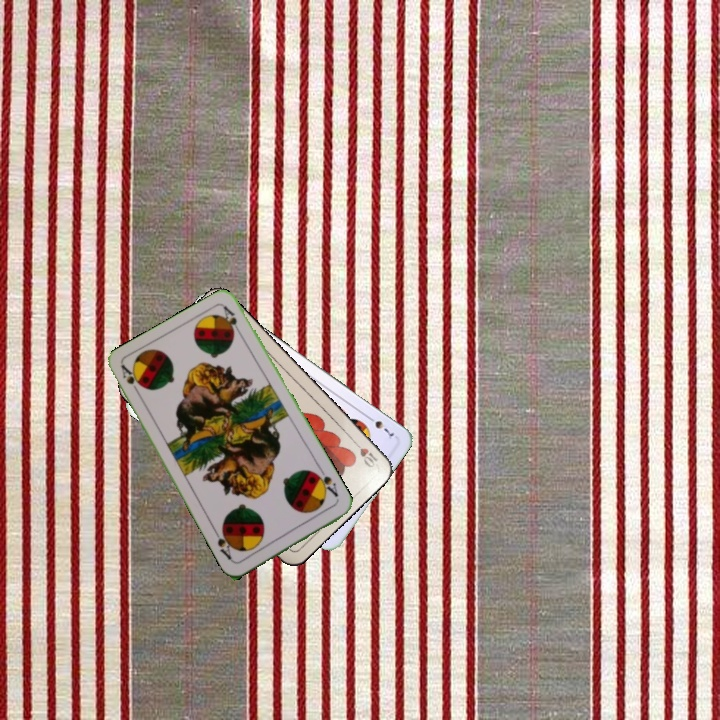H10: (348, 436, 380, 470)
S7: (363, 411, 397, 442)
SA: (117, 362, 144, 399), (311, 466, 341, 499)
